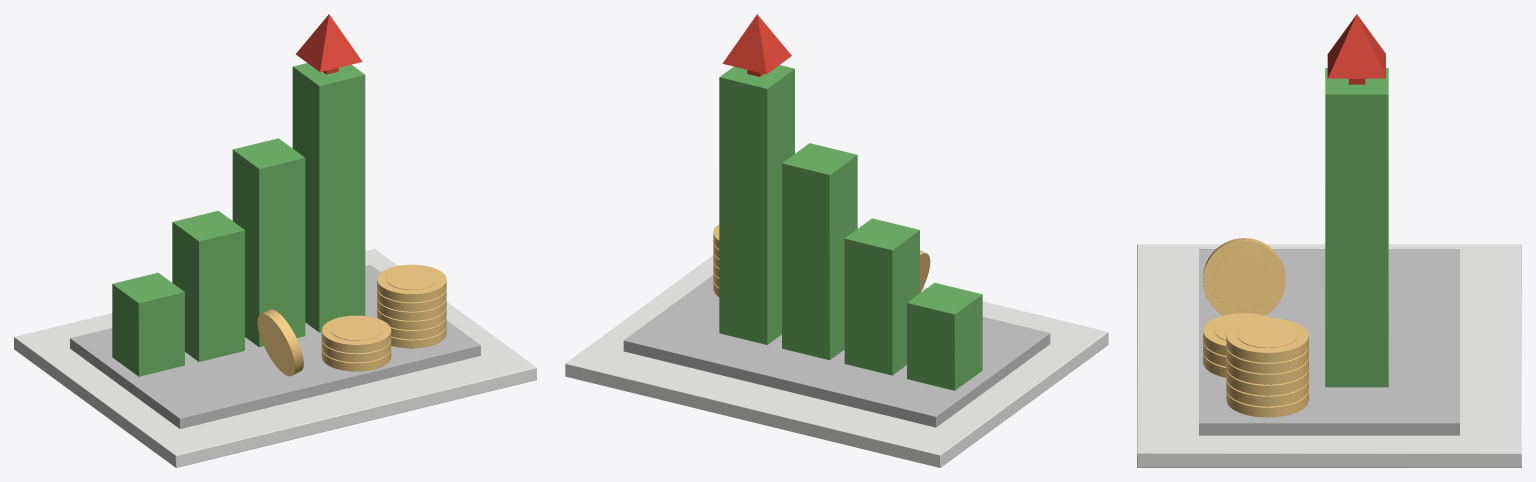
The model's file is asset-management.glb.
3 views of the same model, side by side, from view 1: azimuth 30°, elevation 25°; view 2: azimuth 150°, elevation 25°; view 3: azimuth 270°, elevation 25° (orthographic). The views are drawn at different scales.
Parts seen in each view (by area): view 1: plaza.007, bar3, slab, bar2.001, bar1.001, bar0, arrow, tipped, stackB2, stackA5, stackA5_face, stackB2_face (+8 smaller); view 2: plaza.007, slab, bar3, bar2.001, bar1.001, bar0, arrow; view 3: plaza.007, slab, bar3, tipped_face, arrow, tipped, stackA5, stackA5_face, stackA2, stackA4, stackA3, stackA1 (+2 smaller).
Boxes of the visible parts, x1,y1,x2,y2 form: plaza.007: (14, 249, 536, 467); bar3: (292, 63, 365, 332); slab: (70, 265, 480, 428); bar2.001: (232, 138, 305, 347); bar1.001: (172, 210, 244, 361); bar0: (112, 272, 184, 376); arrow: (296, 14, 362, 72); tipped: (257, 309, 303, 376); stackB2: (321, 315, 391, 353); stackA5: (377, 264, 446, 302); stackA5_face: (386, 268, 437, 289); stackB2_face: (331, 319, 381, 340); plaza.007: (565, 256, 1108, 467); slab: (623, 275, 1050, 427); bar3: (719, 65, 794, 344); bar2.001: (782, 143, 857, 360); bar1.001: (844, 218, 919, 375); bar0: (907, 282, 982, 390); arrow: (722, 14, 791, 74); plaza.007: (1137, 244, 1521, 467); slab: (1199, 249, 1459, 435); bar3: (1325, 68, 1388, 387); tipped_face: (1214, 251, 1274, 310); arrow: (1327, 14, 1385, 78); tipped: (1203, 238, 1285, 315); stackA5: (1226, 318, 1308, 362); stackA5_face: (1237, 322, 1297, 347); stackA2: (1226, 368, 1308, 395); stackA4: (1226, 346, 1308, 373); stackA3: (1226, 357, 1308, 384); stackA1: (1226, 379, 1308, 406).
Size of the model in its own units: 3.6 by 3.11 by 2.8.
